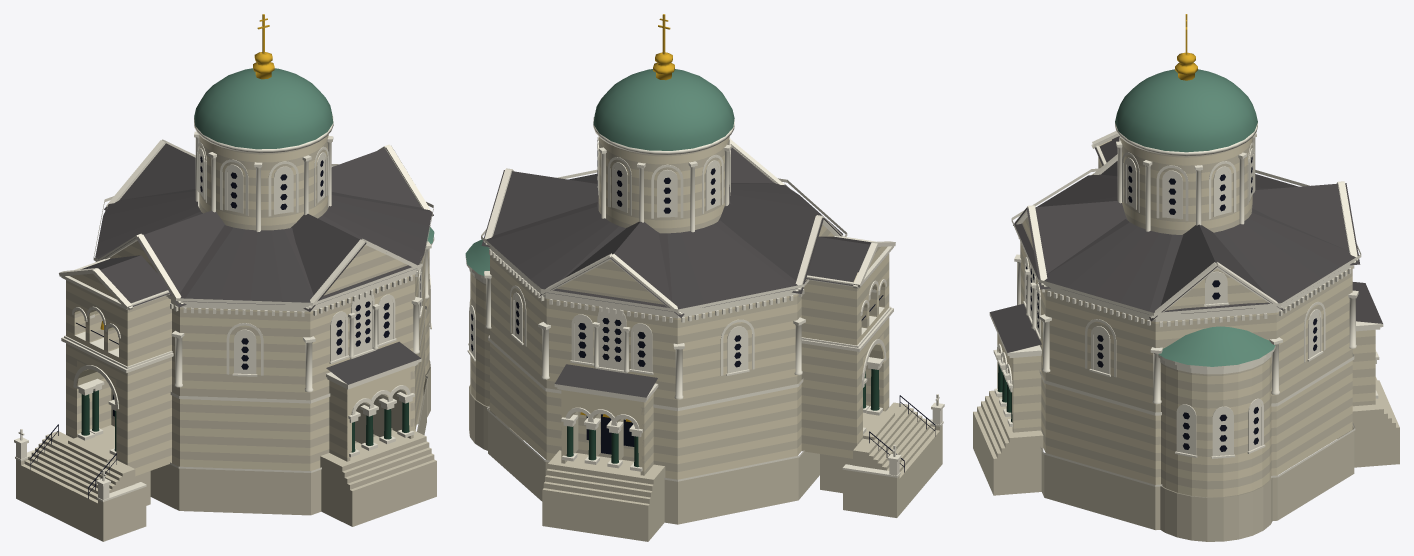
Rendered from vladimir_sobor.glb.
3 renders of one model, left to right at view 1: azimuth 30°, elevation 25°; view 2: azimuth 150°, elevation 25°; view 3: azimuth 270°, elevation 25°, orthographic. The views are drawn at different scales.
Visible parts, largest first — view 1: vladimir_sobor_wall2, vladimir_sobor_stone, vladimir_sobor_wall, vladimir_sobor_trim, vladimir_sobor_roof, vladimir_sobor_metal, vladimir_sobor_wood, vladimir_sobor_wall3; view 2: vladimir_sobor_wall2, vladimir_sobor_wall, vladimir_sobor_stone, vladimir_sobor_trim, vladimir_sobor_roof, vladimir_sobor_metal, vladimir_sobor_wood, vladimir_sobor_wall3; view 3: vladimir_sobor_wall2, vladimir_sobor_stone, vladimir_sobor_wall, vladimir_sobor_trim, vladimir_sobor_roof, vladimir_sobor_metal, vladimir_sobor_wall3.
Part boxes in pixels (x1=…): vladimir_sobor_wall2: x1=16, y1=138, x2=436, y2=541; vladimir_sobor_stone: x1=80, y1=143, x2=433, y2=384; vladimir_sobor_wall: x1=66, y1=135, x2=429, y2=476; vladimir_sobor_trim: x1=14, y1=115, x2=434, y2=501; vladimir_sobor_roof: x1=194, y1=68, x2=434, y2=243; vladimir_sobor_metal: x1=30, y1=156, x2=420, y2=498; vladimir_sobor_wood: x1=81, y1=390, x2=409, y2=452; vladimir_sobor_wall3: x1=100, y1=14, x2=274, y2=329; vladimir_sobor_wall2: x1=469, y1=139, x2=942, y2=541; vladimir_sobor_wall: x1=470, y1=137, x2=889, y2=479; vladimir_sobor_stone: x1=481, y1=147, x2=871, y2=397; vladimir_sobor_trim: x1=465, y1=117, x2=944, y2=481; vladimir_sobor_roof: x1=465, y1=69, x2=734, y2=275; vladimir_sobor_metal: x1=471, y1=151, x2=935, y2=472; vladimir_sobor_wood: x1=566, y1=369, x2=879, y2=467; vladimir_sobor_wall3: x1=580, y1=14, x2=674, y2=422; vladimir_sobor_wall2: x1=973, y1=138, x2=1399, y2=541; vladimir_sobor_stone: x1=990, y1=136, x2=1382, y2=352; vladimir_sobor_wall: x1=997, y1=138, x2=1375, y2=497; vladimir_sobor_trim: x1=989, y1=123, x2=1383, y2=486; vladimir_sobor_roof: x1=1115, y1=69, x2=1275, y2=366; vladimir_sobor_metal: x1=1026, y1=156, x2=1317, y2=451; vladimir_sobor_wall3: x1=1175, y1=14, x2=1197, y2=80.
Bounding box in the file's own units: 36.33 × 36.12 × 31.61.
